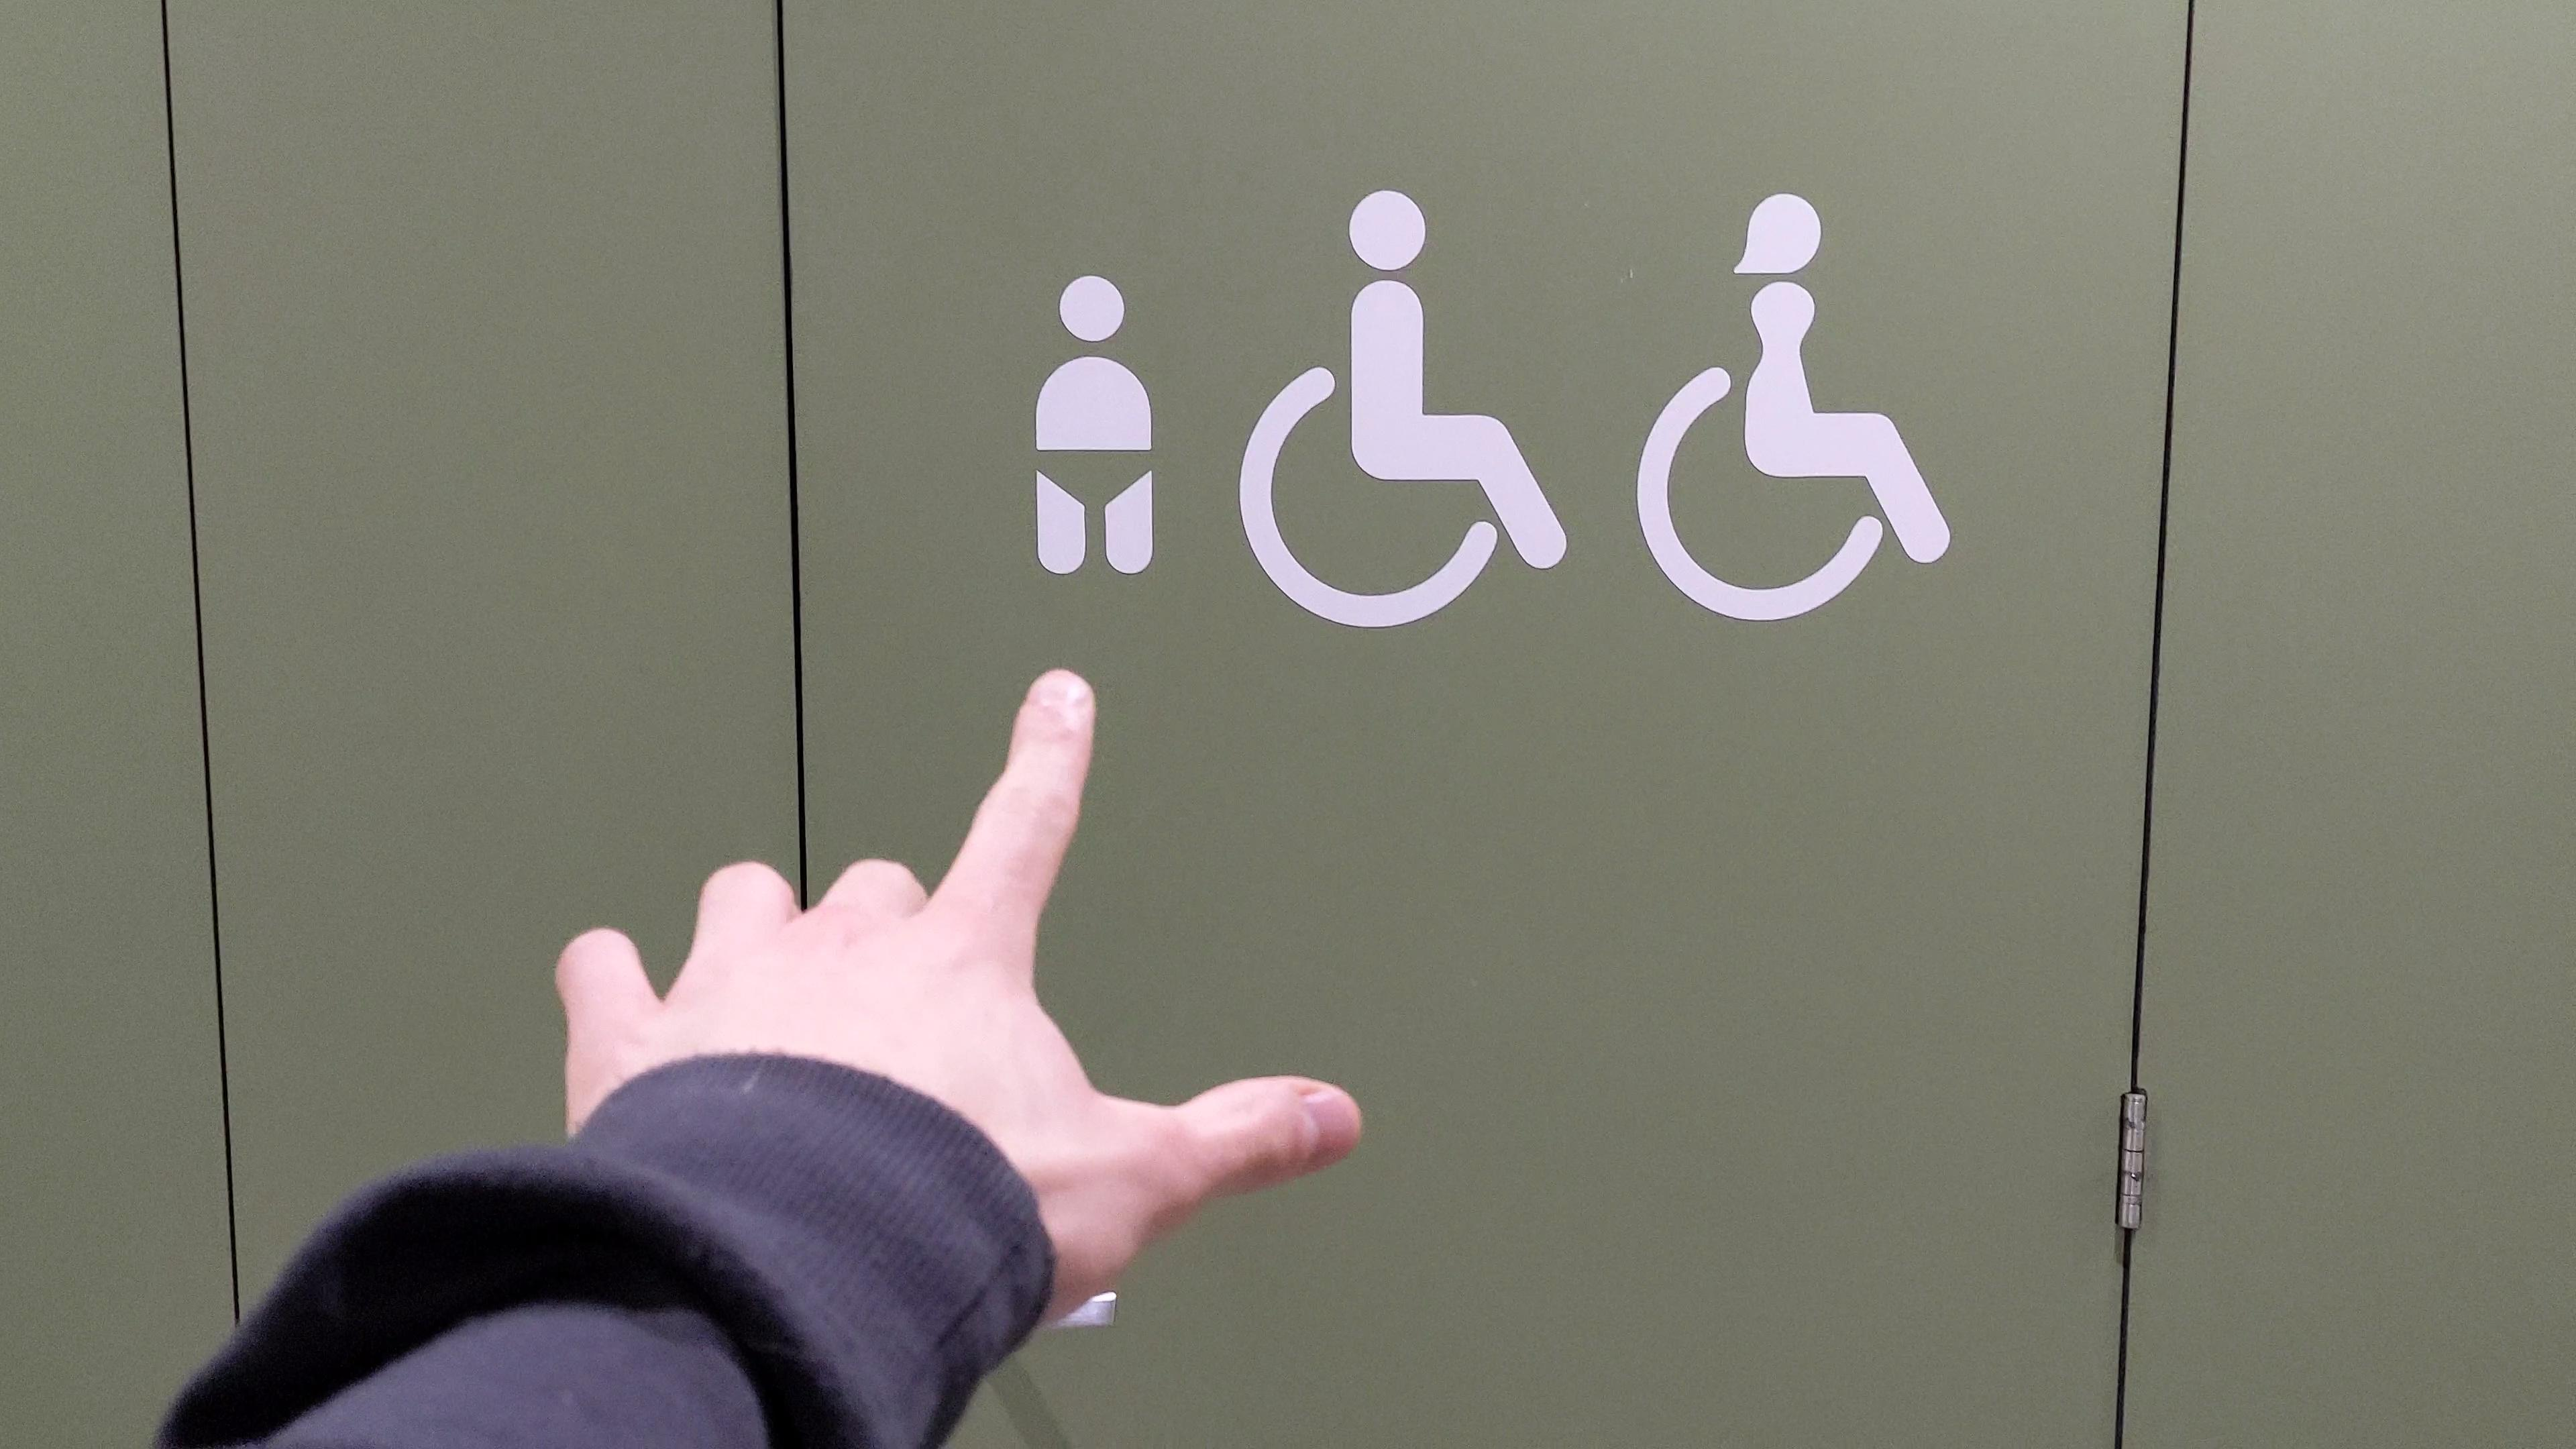handicapped symbol: (1235, 179, 1575, 633), (1631, 188, 1957, 630)
